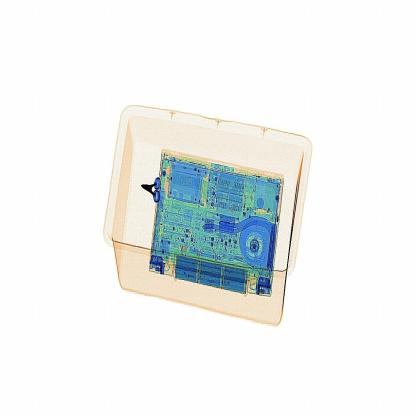gun: (133, 171, 174, 218)
